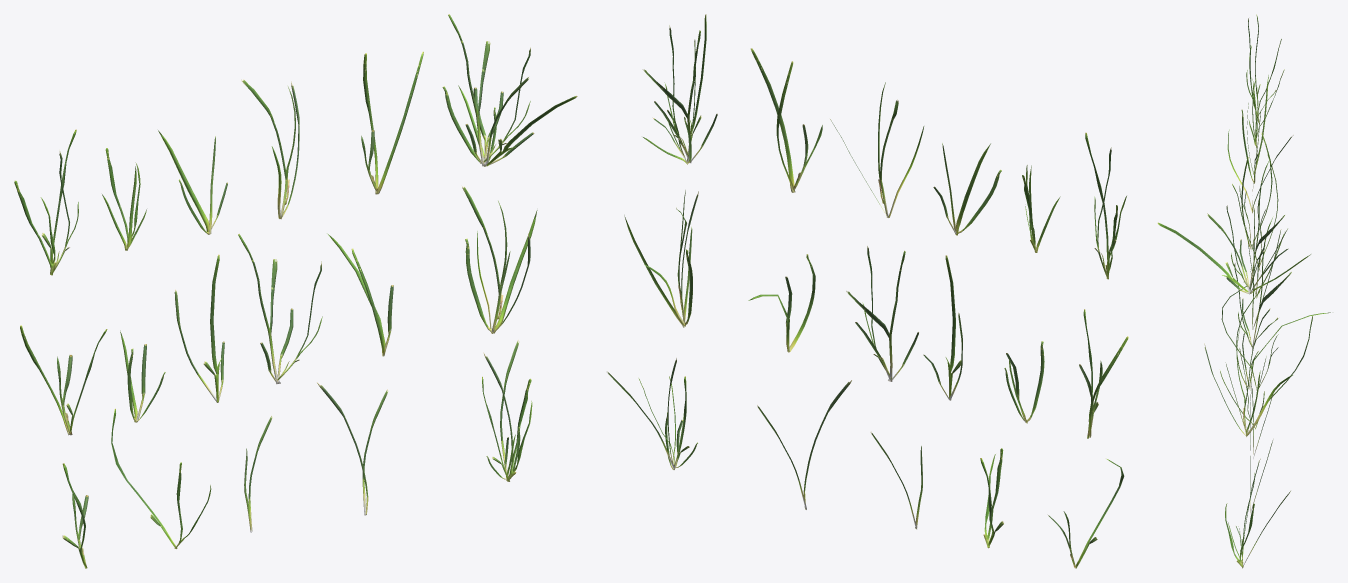
The model's file is Grass_Green_Strands.obj.
3 views of the same model, side by side, from view 1: azimuth 30°, elevation 25°; view 2: azimuth 150°, elevation 25°; view 3: azimuth 270°, elevation 25° (orthographic). The views are drawn at different scales.
Parts seen in each view (by area): view 1: Grass_Green_Strands.014_Grass_Green, Grass_Green_Strands.016_Grass_Green, Grass_Green_Strands.015_Grass_Green, Grass_Green_Strands.004_Grass_Green, Grass_Green_Strands.011_Grass_Green, Grass_Green_Strands.002_Grass_Green, Grass_Green_Strands.005_Grass_Green, Grass_Green_Strands.001_Grass_Green, Grass_Green_Strands.012_Grass_Green, Grass_Green_Strands.013_Grass_Green, Grass_Green_Strands.007_Grass_Green, Grass_Green_Strands.010_Grass_Green (+4 smaller); view 2: Grass_Green_Strands.014_Grass_Green, Grass_Green_Strands.016_Grass_Green, Grass_Green_Strands.002_Grass_Green, Grass_Green_Strands.004_Grass_Green, Grass_Green_Strands.015_Grass_Green, Grass_Green_Strands.011_Grass_Green, Grass_Green_Strands.013_Grass_Green, Grass_Green_Strands.001_Grass_Green, Grass_Green_Strands.005_Grass_Green, Grass_Green_Strands.012_Grass_Green, Grass_Green_Strands.010_Grass_Green, Grass_Green_Strands.003_Grass_Green (+1 smaller); view 3: Grass_Green_Strands.014_Grass_Green, Grass_Green_Strands.016_Grass_Green, Grass_Green_Strands.015_Grass_Green, Grass_Green_Strands.004_Grass_Green, Grass_Green_Strands.011_Grass_Green, Grass_Green_Strands.002_Grass_Green, Grass_Green_Strands.013_Grass_Green, Grass_Green_Strands.005_Grass_Green, Grass_Green_Strands.010_Grass_Green, Grass_Green_Strands.007_Grass_Green, Grass_Green_Strands.003_Grass_Green, Grass_Green_Strands.012_Grass_Green (+2 smaller).
Boxes of the visible parts, x1,y1,x2,y2 form: Grass_Green_Strands.014_Grass_Green: (442,14,577,166); Grass_Green_Strands.016_Grass_Green: (462,186,537,333); Grass_Green_Strands.015_Grass_Green: (482,340,532,481); Grass_Green_Strands.004_Grass_Green: (238,233,322,384); Grass_Green_Strands.011_Grass_Green: (14,129,78,275); Grass_Green_Strands.002_Grass_Green: (361,51,423,194); Grass_Green_Strands.005_Grass_Green: (241,79,299,219); Grass_Green_Strands.001_Grass_Green: (174,254,224,402); Grass_Green_Strands.012_Grass_Green: (20,325,107,435); Grass_Green_Strands.013_Grass_Green: (158,130,227,234); Grass_Green_Strands.007_Grass_Green: (102,148,146,250); Grass_Green_Strands.010_Grass_Green: (327,233,393,356); Grass_Green_Strands.014_Grass_Green: (642,14,717,164); Grass_Green_Strands.016_Grass_Green: (624,190,698,327); Grass_Green_Strands.002_Grass_Green: (750,48,822,192); Grass_Green_Strands.004_Grass_Green: (846,246,918,381); Grass_Green_Strands.015_Grass_Green: (607,358,697,469); Grass_Green_Strands.011_Grass_Green: (1085,132,1126,279); Grass_Green_Strands.013_Grass_Green: (933,143,1001,235); Grass_Green_Strands.001_Grass_Green: (923,255,962,400); Grass_Green_Strands.005_Grass_Green: (830,82,924,217); Grass_Green_Strands.012_Grass_Green: (1079,309,1128,438); Grass_Green_Strands.010_Grass_Green: (748,254,815,352); Grass_Green_Strands.003_Grass_Green: (980,448,1003,548); Grass_Green_Strands.014_Grass_Green: (1157,159,1310,294); Grass_Green_Strands.016_Grass_Green: (1204,317,1292,436); Grass_Green_Strands.015_Grass_Green: (1225,458,1290,568); Grass_Green_Strands.004_Grass_Green: (1234,216,1291,349); Grass_Green_Strands.011_Grass_Green: (1246,14,1281,123); Grass_Green_Strands.002_Grass_Green: (1239,132,1272,249); Grass_Green_Strands.013_Grass_Green: (1241,75,1268,183); Grass_Green_Strands.005_Grass_Green: (1227,90,1293,213); Grass_Green_Strands.010_Grass_Green: (1236,289,1330,390); Grass_Green_Strands.007_Grass_Green: (1248,69,1284,147); Grass_Green_Strands.003_Grass_Green: (1220,316,1312,429); Grass_Green_Strands.012_Grass_Green: (1232,154,1278,270).
Size of the model in its own units: 0.3079 by 0.269 by 0.1083.
